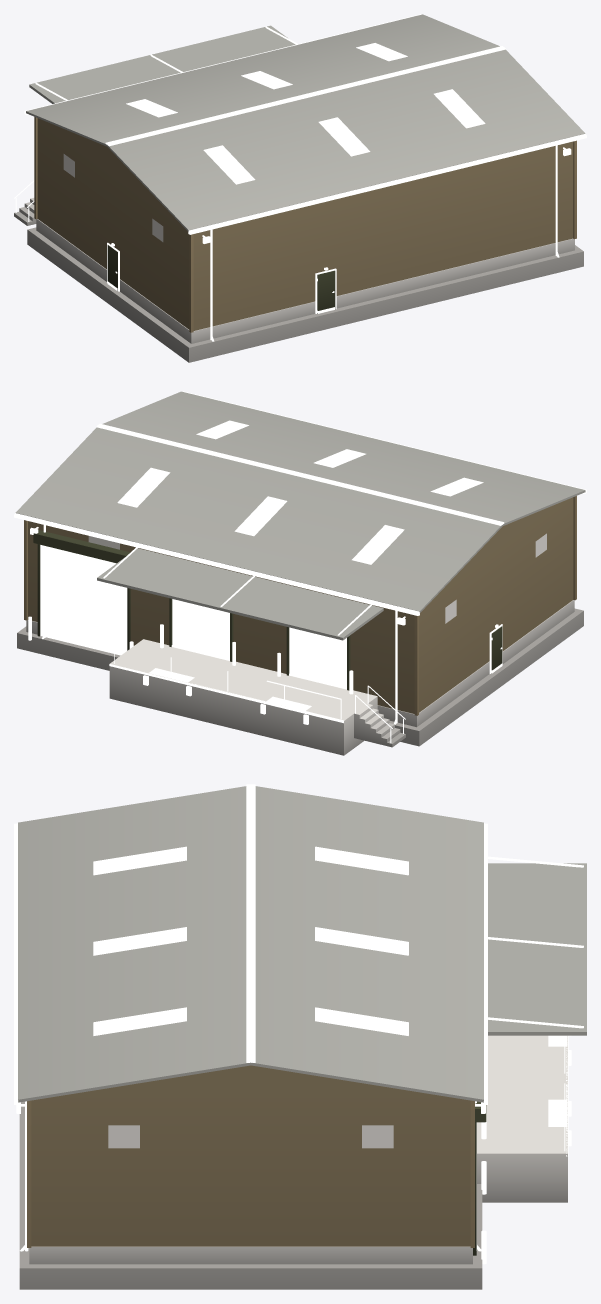
The model's file is supply_depot.glb.
The picture shows the model from 3 angles, top to bottom: view 1: azimuth 30°, elevation 25°; view 2: azimuth 150°, elevation 25°; view 3: azimuth 270°, elevation 25°; orthographic projection. The views are drawn at different scales.
Parts seen in each view (by area): view 1: supply_depot_LOD0; view 2: supply_depot_LOD0; view 3: supply_depot_LOD0.
Part boxes in pixels (x1,y1,x2,y2): supply_depot_LOD0: (14, 14, 586, 362); supply_depot_LOD0: (14, 391, 586, 755); supply_depot_LOD0: (14, 784, 586, 1289).
Size of what is drawn, in the model's own units: 20.7 by 7.97 by 18.08.
